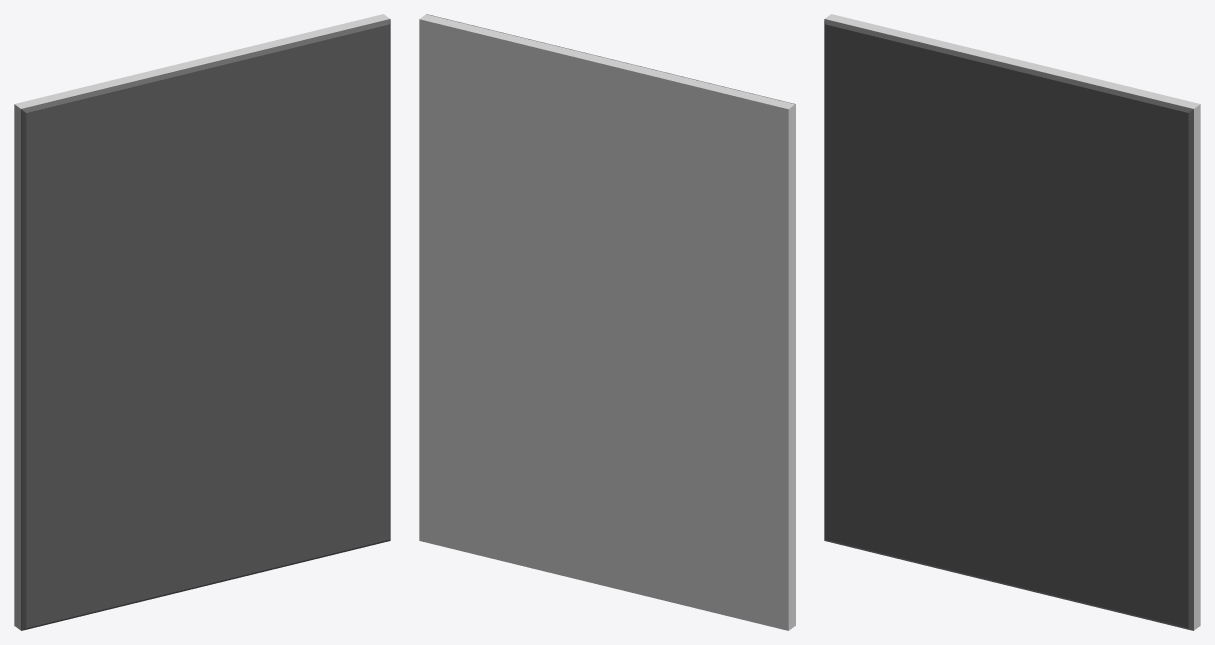
File: AEC_45781.glb
3 renders of one model, left to right at view 1: azimuth 30°, elevation 25°; view 2: azimuth 150°, elevation 25°; view 3: azimuth 330°, elevation 25°, orthographic.
Parts seen in each view (by area): view 1: 0; view 2: 0; view 3: 0.
Part boxes in pixels (<box>): 0: <box>14,14,390,630</box>; 0: <box>419,14,795,630</box>; 0: <box>824,14,1200,630</box>.
Size of the model in its own units: 0.6001 by 0.81 by 0.025.
1 material, 1 textured.
